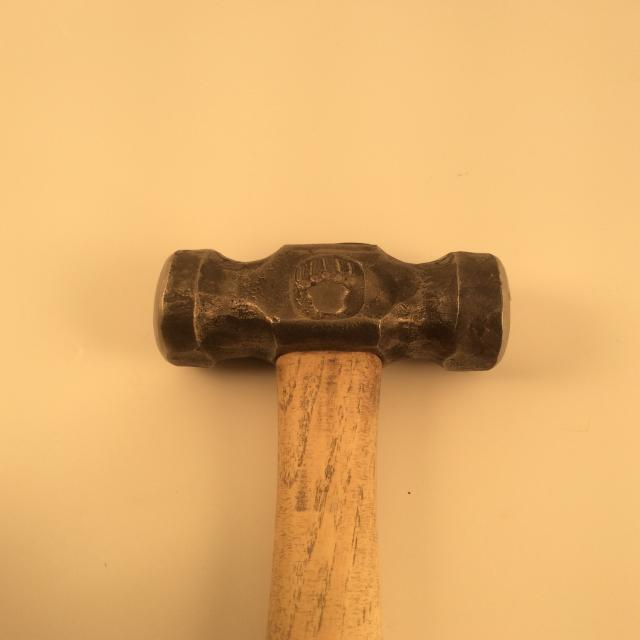hammer: (141, 233, 520, 640)
